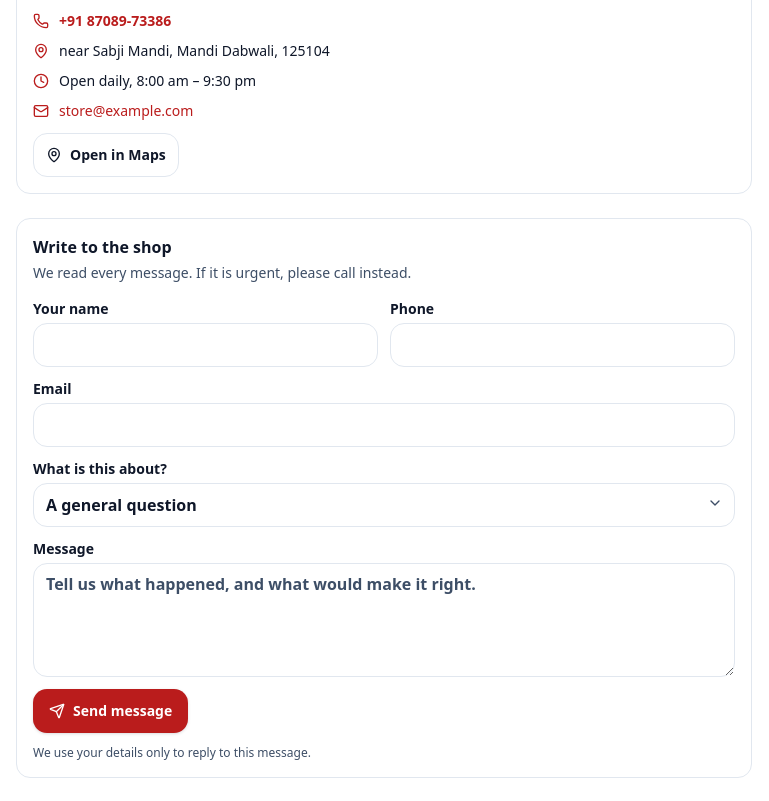
Test: ContactPage › says so plainly when the message could not be stored
The image size is (769, 801).
(page scrolled)
Type "Hello there" into the text box labelled "Message" at x=384, y=620, box [33,563,735,677]
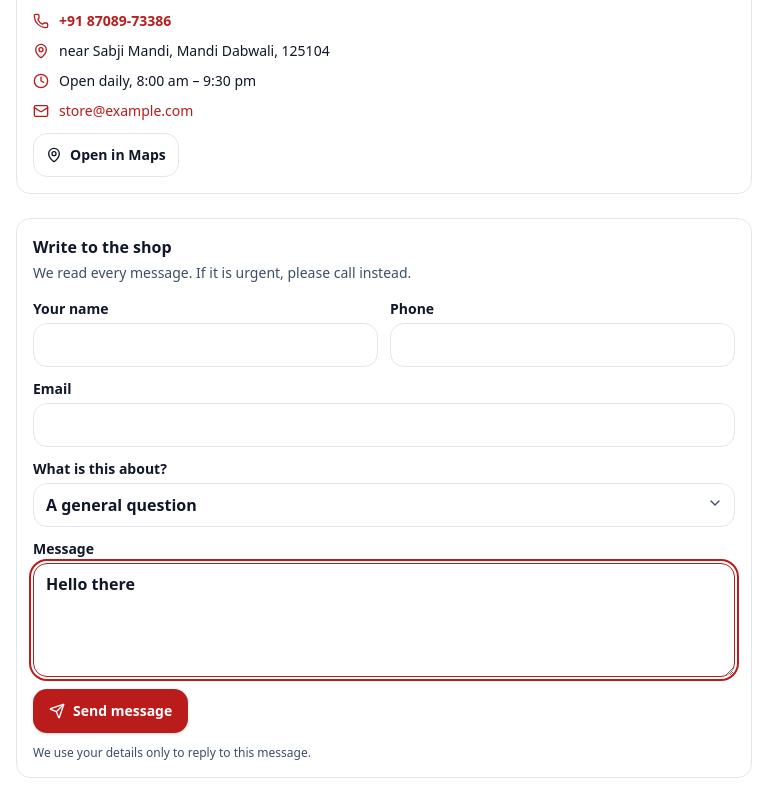
Click the button "Send message" at x=111, y=711, box [33,689,188,733]
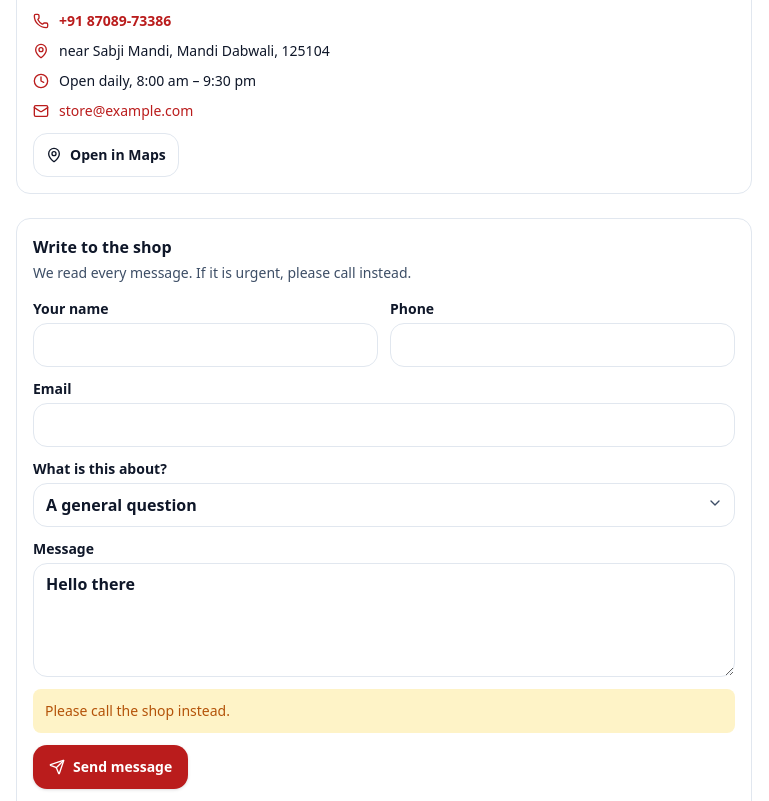
Now the message reads "Please call the shop instead.", box [45,701,230,720]
